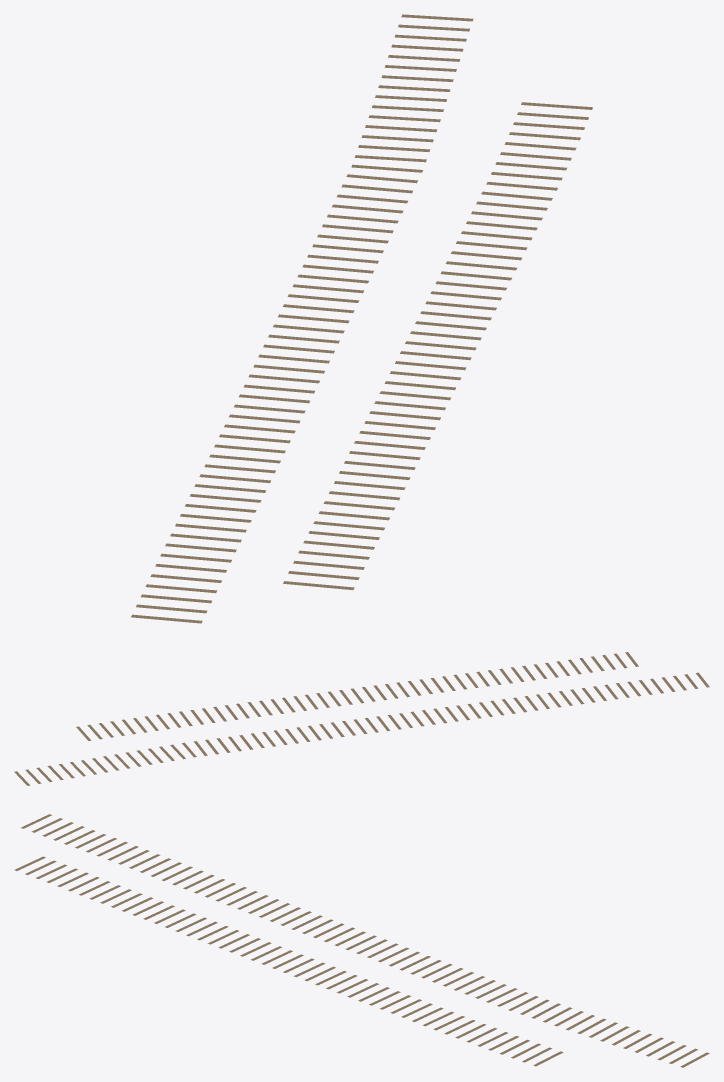
Rendered from c_1628_17833_rail_sleeper.glb.
3 views of the same model, one above another, from view 1: azimuth 30°, elevation 25°; view 2: azimuth 150°, elevation 25°; view 3: azimuth 270°, elevation 25° (orthographic). The views are drawn at different scales.
Visible parts, largest first — view 1: geometry_0; view 2: geometry_0; view 3: geometry_0.
Part boxes in pixels (x1=…): geometry_0: x1=131, y1=14, x2=592, y2=623; geometry_0: x1=14, y1=652, x2=709, y2=785; geometry_0: x1=14, y1=814, x2=709, y2=1067.
Size of the model in its own units: 33.34 by 0.1512 by 38.36.
